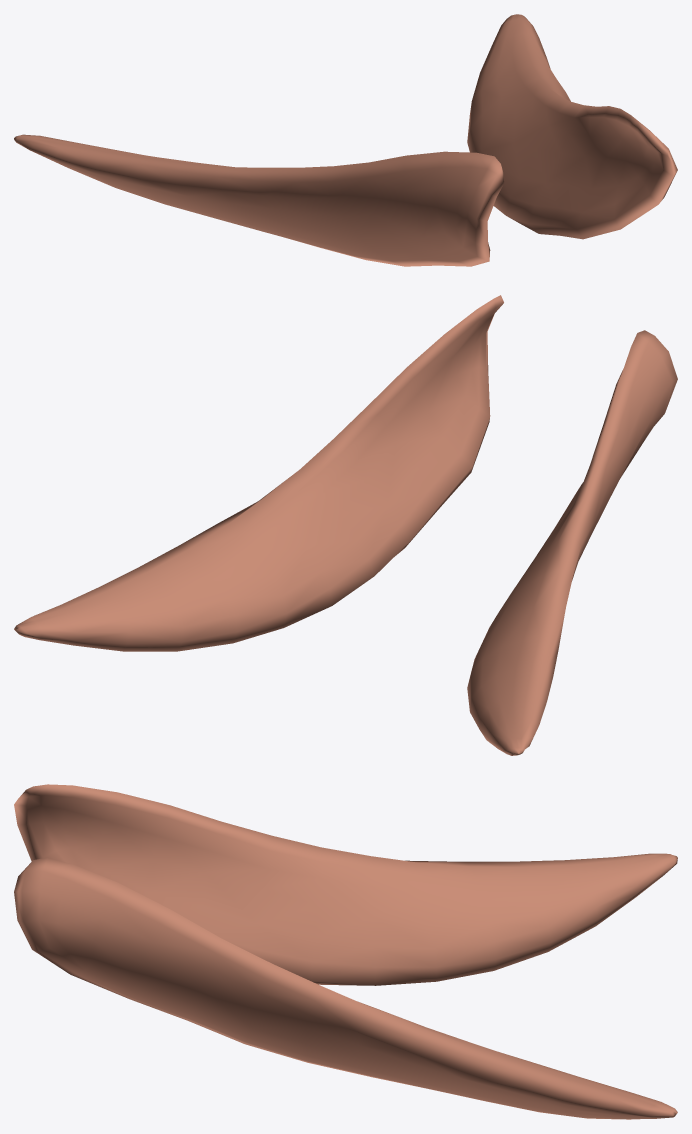
File: ischiocavernosus.glb
3 views of the same model, one above another, from view 1: azimuth 30°, elevation 25°; view 2: azimuth 150°, elevation 25°; view 3: azimuth 270°, elevation 25° (orthographic). The views are drawn at different scales.
Parts seen in each view (by area): view 1: Ischiocavernosus; view 2: Ischiocavernosus; view 3: Ischiocavernosus.
Boxes of the visible parts, box(x1,y1,x2,y2) form: Ischiocavernosus: box(14, 14, 677, 266); Ischiocavernosus: box(14, 295, 677, 755); Ischiocavernosus: box(14, 784, 677, 1119).
Size of the model in its own units: 0.0765 by 0.0291 by 0.0825.
